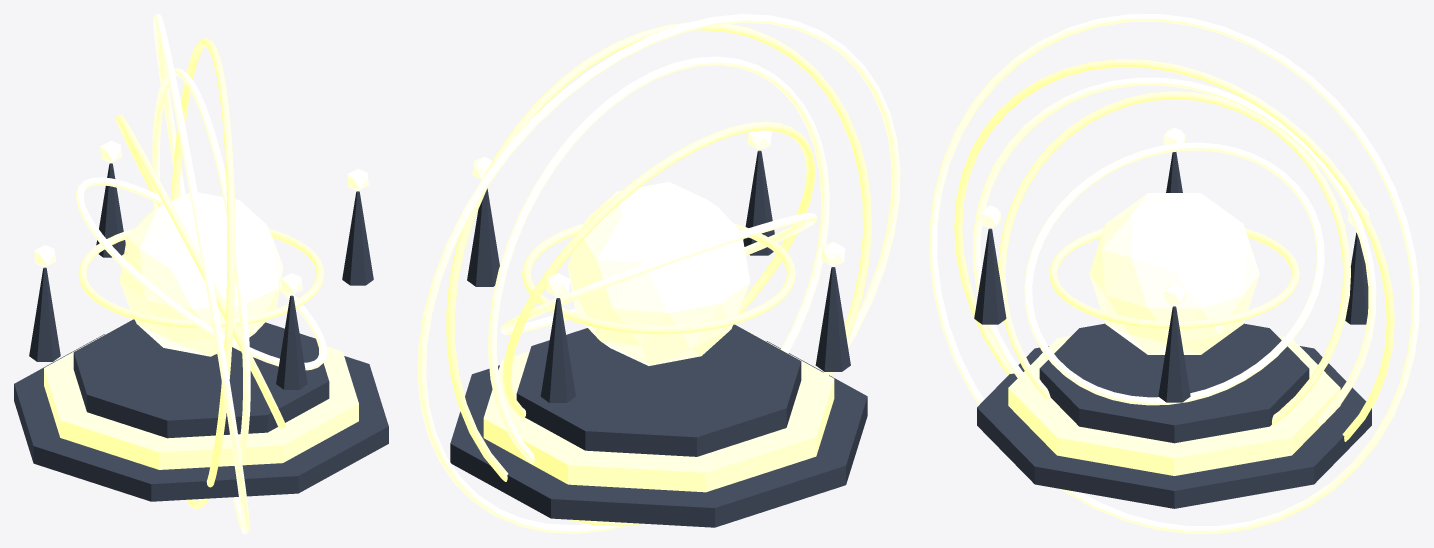
Rendered from gpu-blender-v16.glb.
The picture shows the model from 3 angles, left to right: view 1: azimuth 30°, elevation 25°; view 2: azimuth 150°, elevation 25°; view 3: azimuth 270°, elevation 25°; orthographic projection. The views are drawn at different scales.
Visible parts, largest first — view 1: Cylinder.002, Cylinder, SovereignCore_reality-shader-forge, Cylinder.001, Torus.005, Torus.004, Torus.003, Torus.001, Torus, Torus.002, Cone, Cone.003 (+2 smaller); view 2: Cylinder.002, SovereignCore_reality-shader-forge, Cylinder, Cylinder.001, Torus.005, Torus.004, Torus.003, Torus.002, Torus, Torus.001, Cone.002, Cone.001 (+2 smaller); view 3: SovereignCore_reality-shader-forge, Cylinder.002, Cylinder, Cylinder.001, Torus.005, Torus.004, Torus.001, Torus.002, Torus.003, Torus, Cone, Cone.003 (+1 smaller).
Part boxes in pixels (box(x1,y1,x2,y2)): Cylinder.002: box(73, 319, 329, 438); Cylinder: box(14, 334, 388, 501); SovereignCore_reality-shader-forge: box(119, 192, 283, 356); Cylinder.001: box(44, 326, 358, 469); Torus.005: box(153, 14, 249, 533); Torus.004: box(171, 38, 235, 509); Torus.003: box(152, 68, 250, 461); Torus.001: box(76, 177, 326, 370); Torus: box(78, 228, 324, 328); Torus.002: box(116, 115, 285, 428); Cone: box(342, 191, 373, 285); Cone.003: box(276, 295, 307, 389); Cylinder.002: box(516, 324, 801, 456); SovereignCore_reality-shader-forge: box(568, 182, 749, 365); Cylinder: box(450, 341, 867, 527); Cylinder.001: box(483, 332, 834, 492); Torus.005: box(417, 14, 900, 533); Torus.004: box(446, 22, 871, 526); Torus.003: box(488, 56, 829, 463); Torus.002: box(502, 121, 815, 418); Torus: box(522, 223, 795, 334); Torus.001: box(500, 213, 817, 334); Cone.002: box(815, 267, 850, 371); Cone.001: box(540, 298, 575, 402); SovereignCore_reality-shader-forge: box(1089, 193, 1259, 354); Cylinder.002: box(1039, 323, 1309, 443); Cylinder: box(977, 346, 1371, 508); Cylinder.001: box(1008, 336, 1340, 475); Torus.005: box(929, 14, 1419, 533); Torus.004: box(954, 59, 1394, 441); Torus.001: box(1024, 142, 1324, 405); Torus.002: box(998, 91, 1350, 425); Torus.003: box(972, 77, 1376, 426); Torus: box(1049, 228, 1299, 328); Cone: box(1158, 306, 1190, 402); Cone.003: box(974, 228, 1006, 324).
Bounding box in the file's own units: 4.41 × 5.93 × 5.46.
